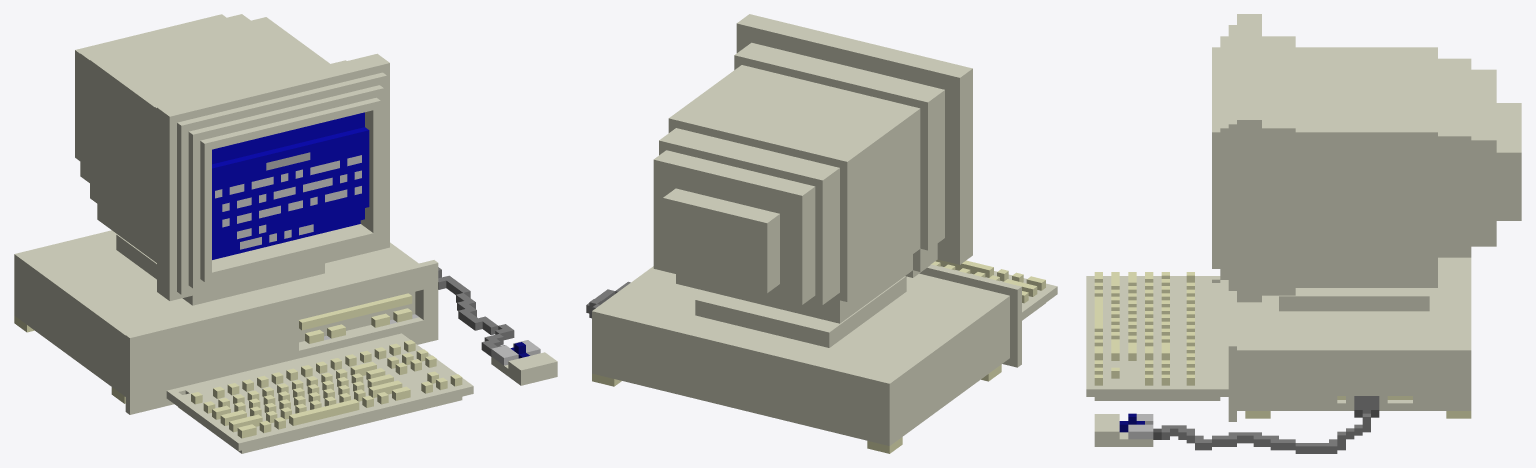
Rendered from computer.glb.
3 views of the same model, side by side, from view 1: azimuth 30°, elevation 25°; view 2: azimuth 150°, elevation 25°; view 3: azimuth 270°, elevation 25° (orthographic). The views are drawn at different scales.
Parts seen in each view (by area): view 1: VoxTransform; view 2: VoxTransform; view 3: VoxTransform.
Boxes of the visible parts, x1,y1,x2,y2 form: VoxTransform: [14, 14, 557, 453]; VoxTransform: [586, 14, 1057, 453]; VoxTransform: [1086, 14, 1521, 453].
Bounding box in the file's own units: 51 × 37 × 52.
